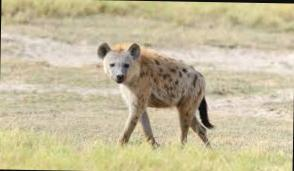hyenas: (89, 42, 215, 144)
